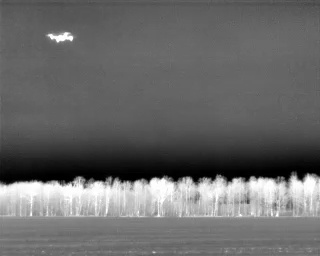DRONE: (42, 26, 79, 48)
